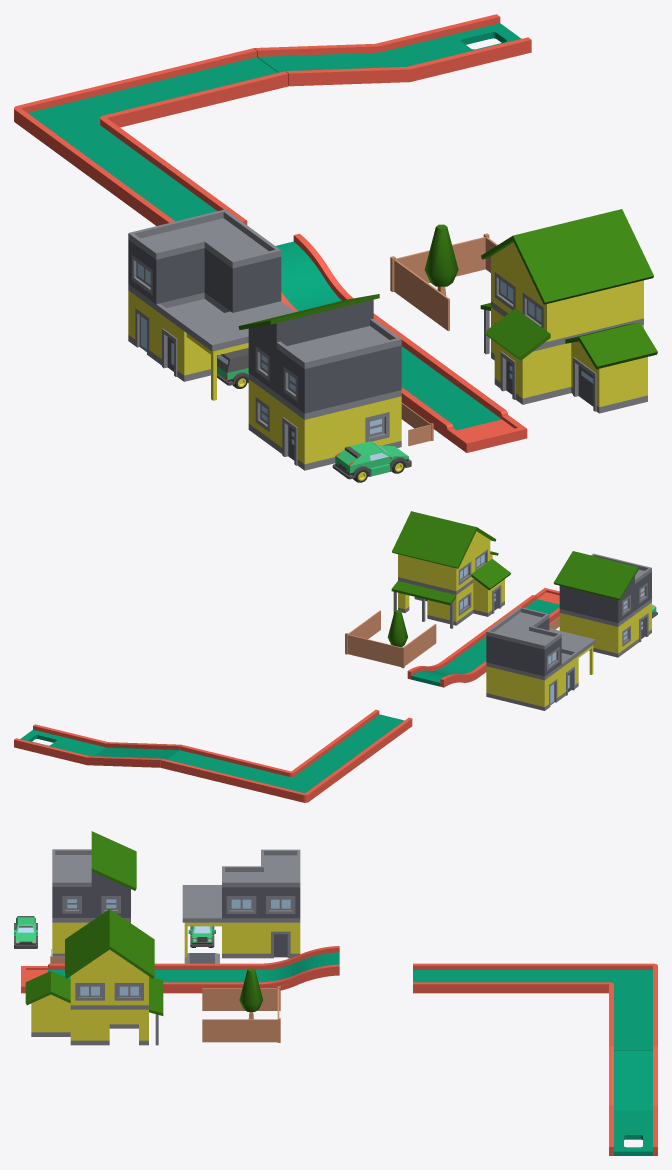
File: course.glb
3 views of the same model, one above another, from view 1: azimuth 30°, elevation 25°; view 2: azimuth 150°, elevation 25°; view 3: azimuth 270°, elevation 25° (orthographic). The views are drawn at different scales.
Visible parts, largest first — view 1: mergedBlocks(Clone); view 2: mergedBlocks(Clone); view 3: mergedBlocks(Clone).
Boxes of the visible parts, box(x1,y1,x2,y2) form: mergedBlocks(Clone): box(14, 14, 657, 482); mergedBlocks(Clone): box(14, 511, 657, 802); mergedBlocks(Clone): box(14, 831, 657, 1155).
Size of the model in its own units: 104 by 26.75 by 131.
